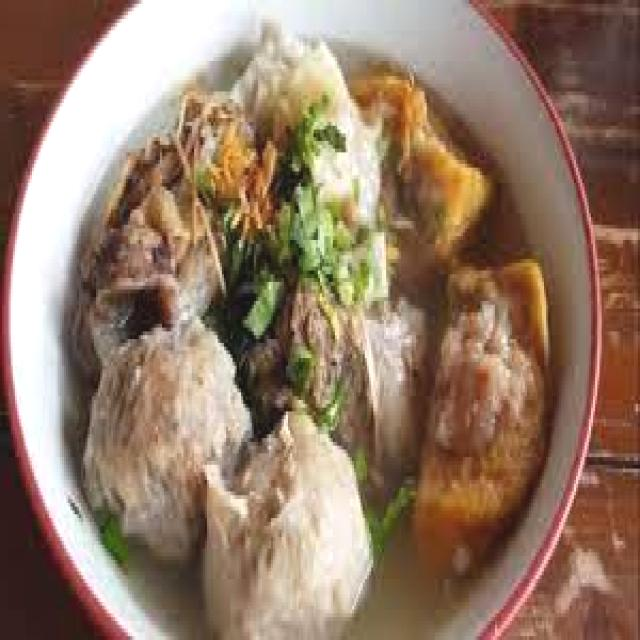bakso: (64, 19, 555, 640)
